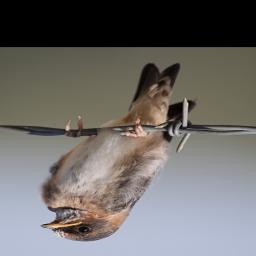Swallow: (37, 62, 198, 244)
